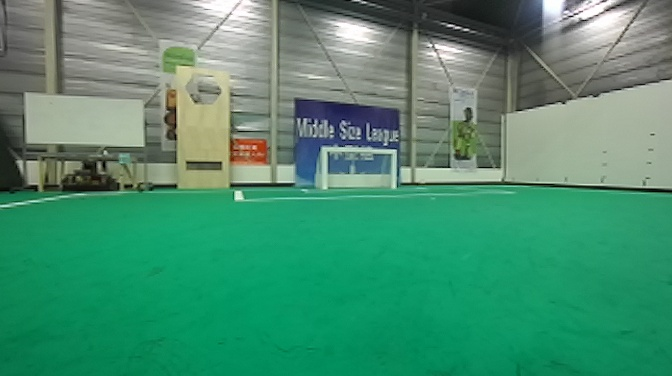goalpost: (316, 143, 332, 189), (383, 147, 397, 194)
